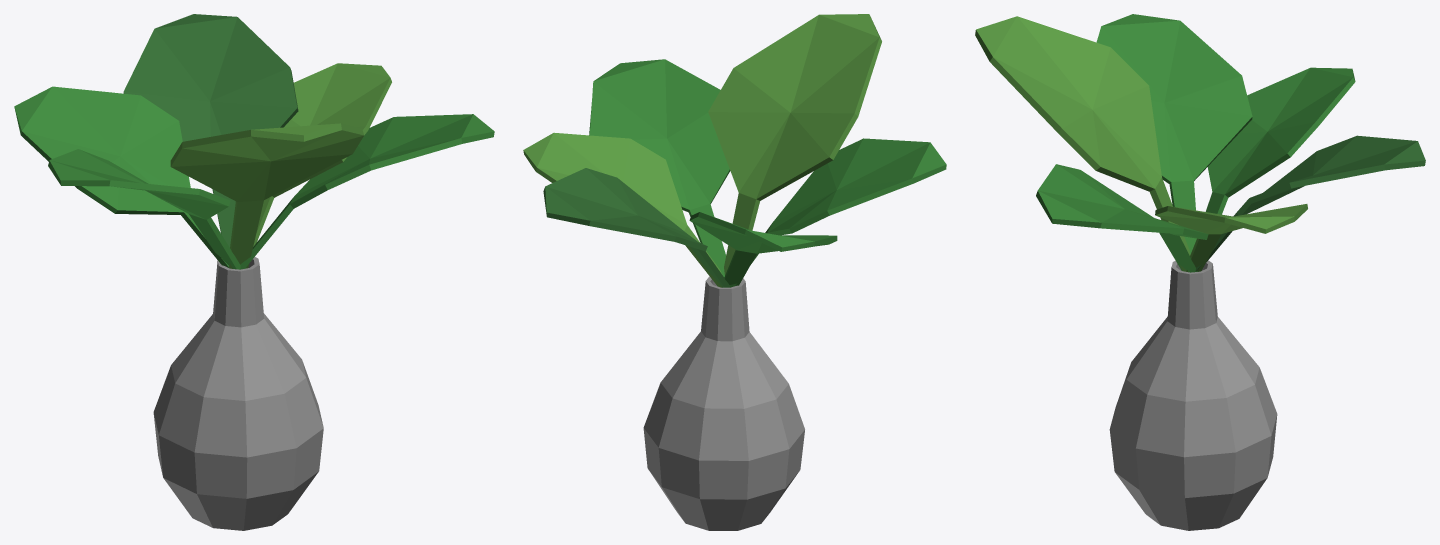
The model's file is pot_leaves_broken.fbx.
3 views of the same model, side by side, from view 1: azimuth 30°, elevation 25°; view 2: azimuth 150°, elevation 25°; view 3: azimuth 270°, elevation 25° (orthographic). The views are drawn at different scales.
Parts seen in each view (by area): view 1: leave_004, flower_pot_empty_broken_07, leave_003, flower_pot_empty_broken_05, leave_001, leave_006, leave_005, leave_002, flower_pot_empty_broken_01; view 2: leave_001, leave_006, leave_002, leave_005, leave_004, flower_pot_empty_broken_08, flower_pot_empty_broken_02, flower_pot_empty_broken_05, flower_pot_empty_broken_01, leave_003, flower_pot_empty_broken_06, flower_pot_empty_broken_07 (+1 smaller); view 3: leave_001, leave_002, flower_pot_empty_broken_07, leave_003, leave_006, flower_pot_empty_broken_01, leave_004, flower_pot_empty_broken_03, flower_pot_empty_broken_08, leave_005, flower_pot_empty_broken_02, flower_pot_empty_broken_04.
Part boxes in pixels (<box>): leave_004: <box>123,14,298,247</box>; flower_pot_empty_broken_07: <box>186,260,323,468</box>; leave_003: <box>14,86,228,267</box>; flower_pot_empty_broken_05: <box>154,351,311,514</box>; leave_001: <box>170,123,364,268</box>; leave_006: <box>240,114,494,269</box>; leave_005: <box>253,63,391,246</box>; leave_002: <box>48,149,240,269</box>; flower_pot_empty_broken_01: <box>154,417,319,530</box>; leave_001: <box>708,14,881,275</box>; leave_006: <box>589,59,730,277</box>; leave_002: <box>730,138,946,287</box>; leave_005: <box>523,132,721,287</box>; leave_004: <box>543,168,729,287</box>; flower_pot_empty_broken_08: <box>660,276,745,410</box>; flower_pot_empty_broken_02: <box>649,411,749,503</box>; flower_pot_empty_broken_05: <box>746,379,804,487</box>; flower_pot_empty_broken_01: <box>645,434,787,530</box>; leave_003: <box>689,212,837,287</box>; flower_pot_empty_broken_06: <box>682,384,751,462</box>; flower_pot_empty_broken_07: <box>658,278,785,391</box>; leave_001: <box>975,16,1190,272</box>; leave_002: <box>1096,14,1252,254</box>; flower_pot_empty_broken_07: <box>1109,261,1232,475</box>; leave_003: <box>1205,67,1355,214</box>; leave_006: <box>1036,164,1208,272</box>; flower_pot_empty_broken_01: <box>1122,446,1266,530</box>; leave_004: <box>1195,135,1425,271</box>; flower_pot_empty_broken_03: <box>1130,405,1248,494</box>; flower_pot_empty_broken_08: <box>1186,260,1259,404</box>; leave_005: <box>1155,204,1307,271</box>; flower_pot_empty_broken_02: <box>1248,384,1277,479</box>; flower_pot_empty_broken_04: <box>1232,387,1261,444</box>.
Bounding box in the file's own units: 229 × 257 × 229.
Materials: 2 (1 with a texture image).
